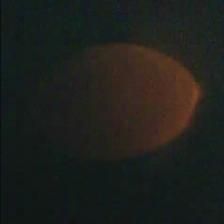fertile: (48, 38, 200, 154)
